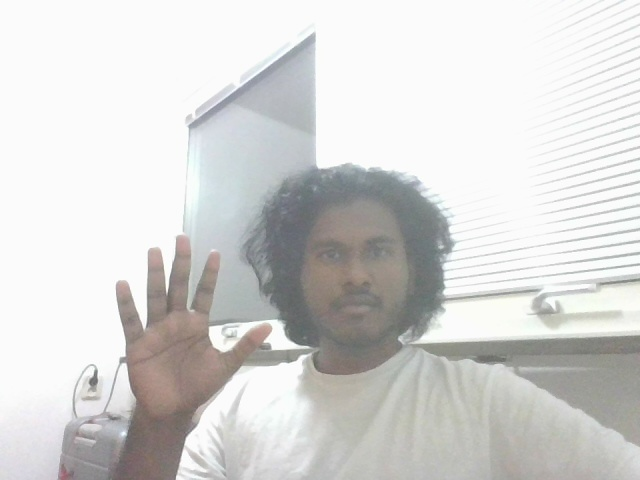hello: (107, 237, 277, 416)
